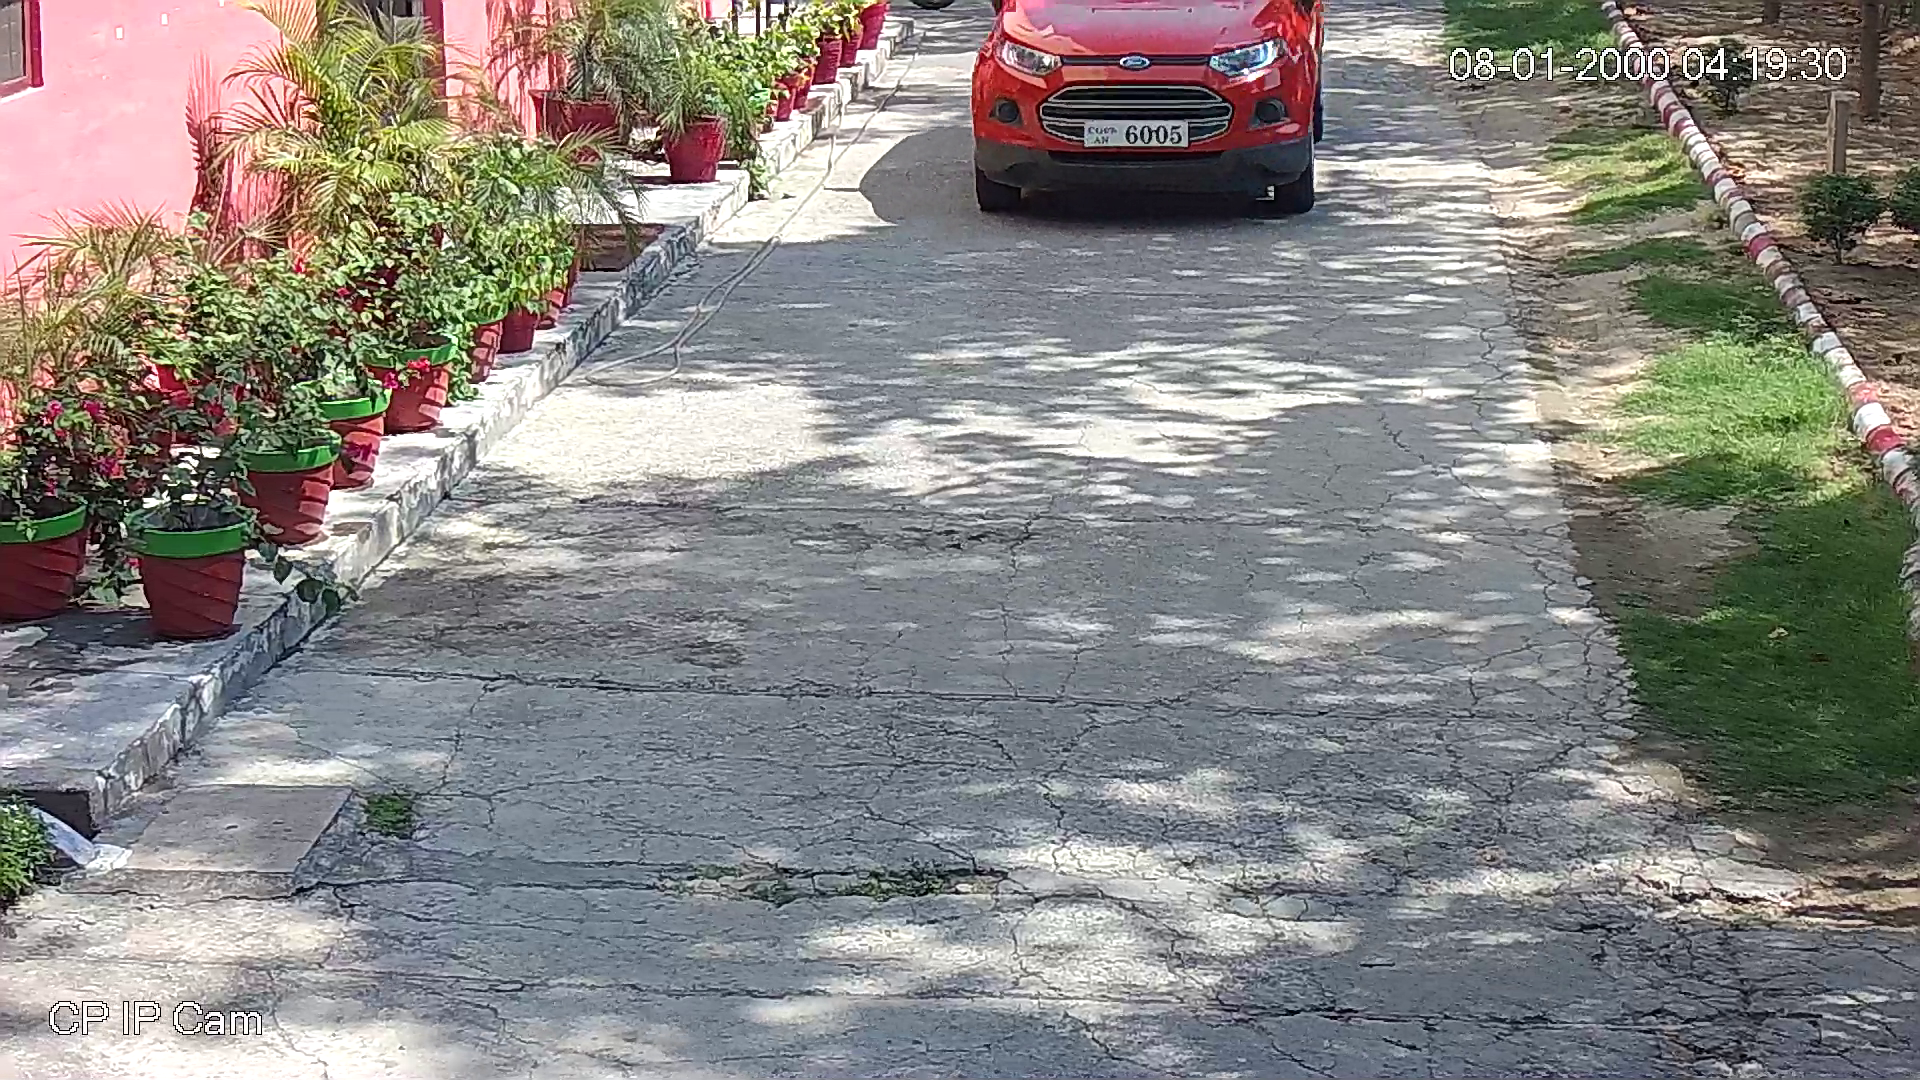plate: (1080, 115, 1192, 151)
